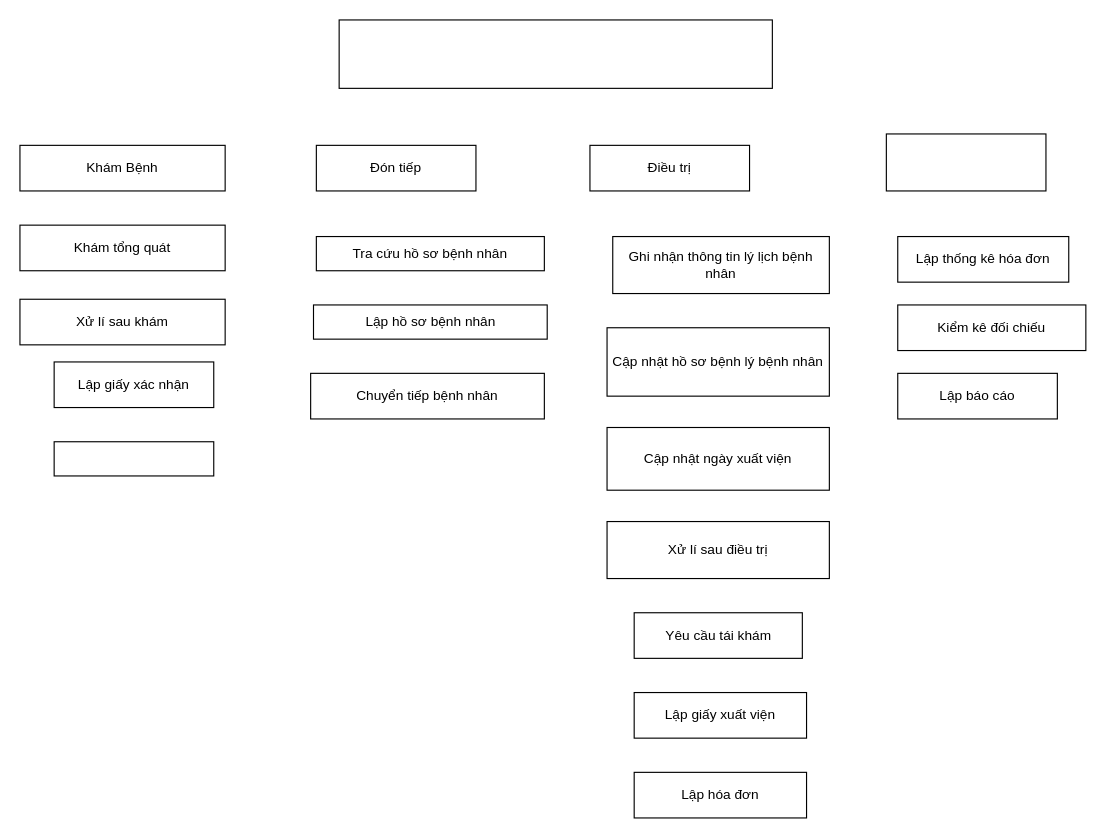
The diagram is 1106 pixels wide and 838 high, and some of its shapes have lost their labels. The centre of each missing label's shape, as x and y in pixels:
"Hệ thống quản lý hoạt động bệnh viện" belongs at point 555,53.
"Lập kết quả khám tổng quát" belongs at point 133,458.
"Tài chính kế toán" belongs at point 965,162.
